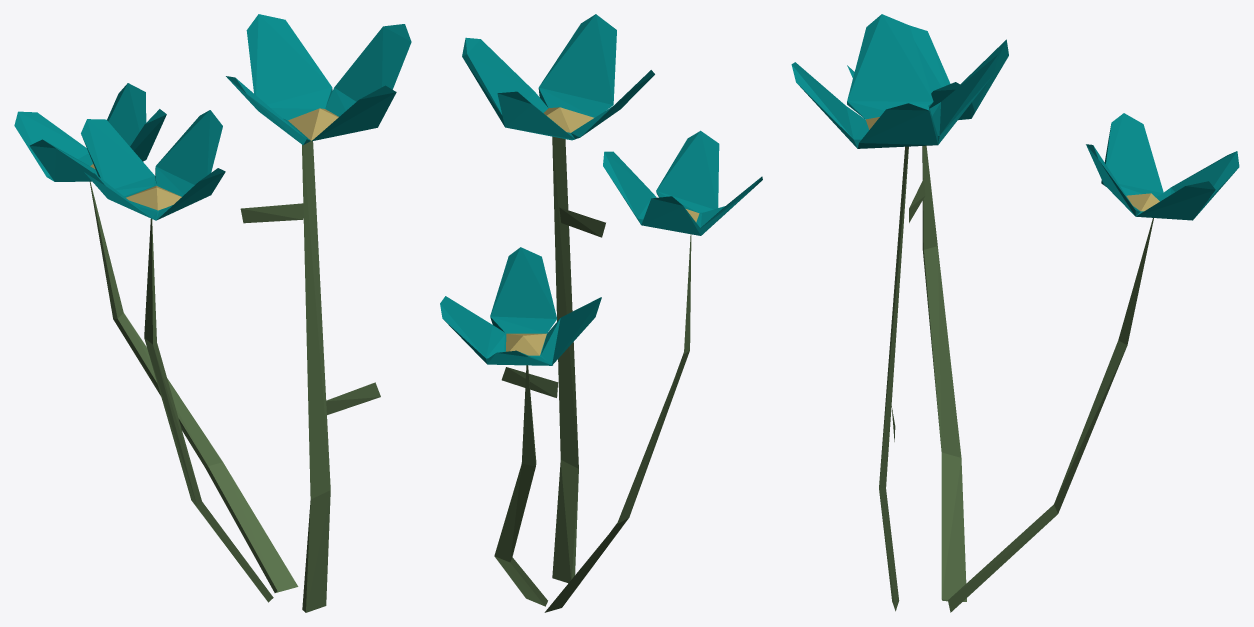
File: Flowers.lod1.glb
3 renders of one model, left to right at view 1: azimuth 30°, elevation 25°; view 2: azimuth 150°, elevation 25°; view 3: azimuth 270°, elevation 25°, orthographic. The views are drawn at different scales.
Parts seen in each view (by area): view 1: Flowers; view 2: Flowers; view 3: Flowers.
Boxes of the visible parts, x1,y1,x2,y2 form: Flowers: [14, 14, 411, 612]; Flowers: [440, 14, 762, 612]; Flowers: [791, 14, 1239, 612].
Bounding box in the file's own units: 0.4799 × 0.8272 × 0.6039.
